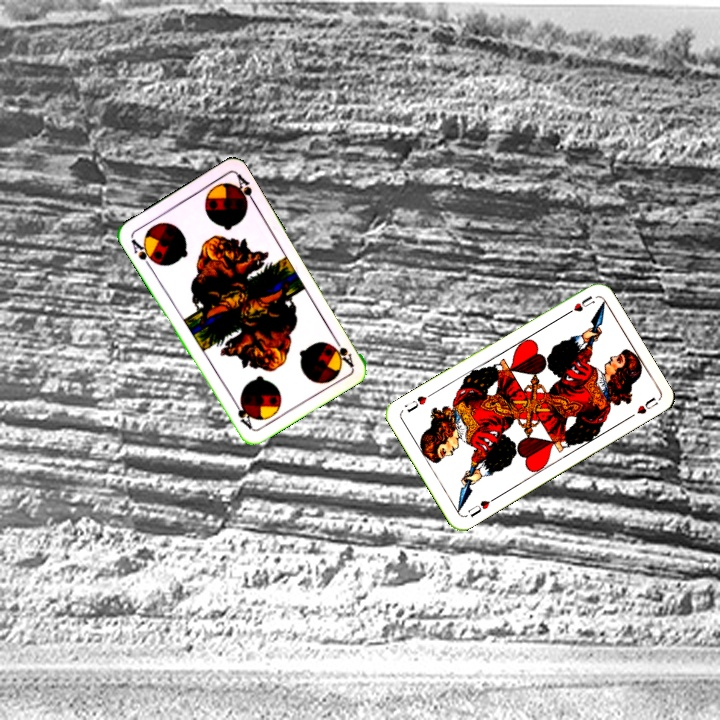HU: (561, 291, 597, 318), (464, 493, 498, 520)
SA: (127, 235, 159, 271), (328, 332, 356, 369)
